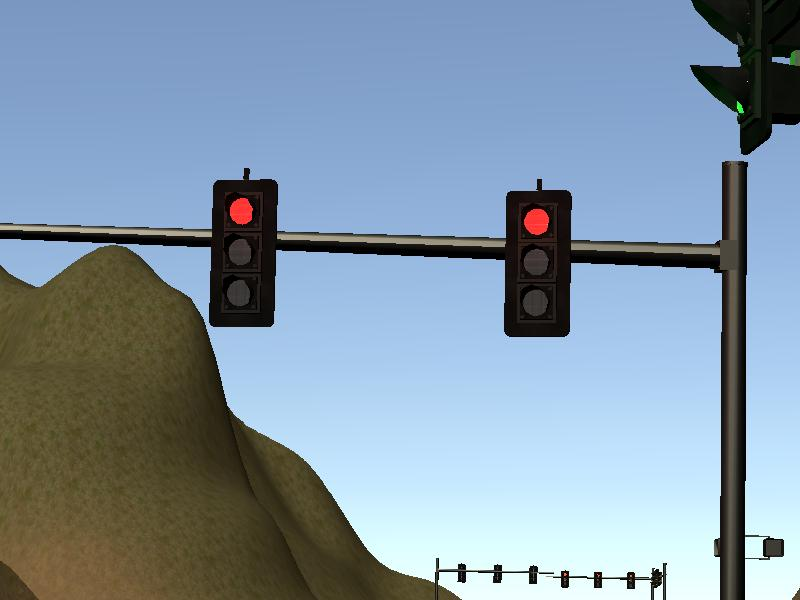red: (505, 189, 572, 338), (212, 179, 275, 327)
